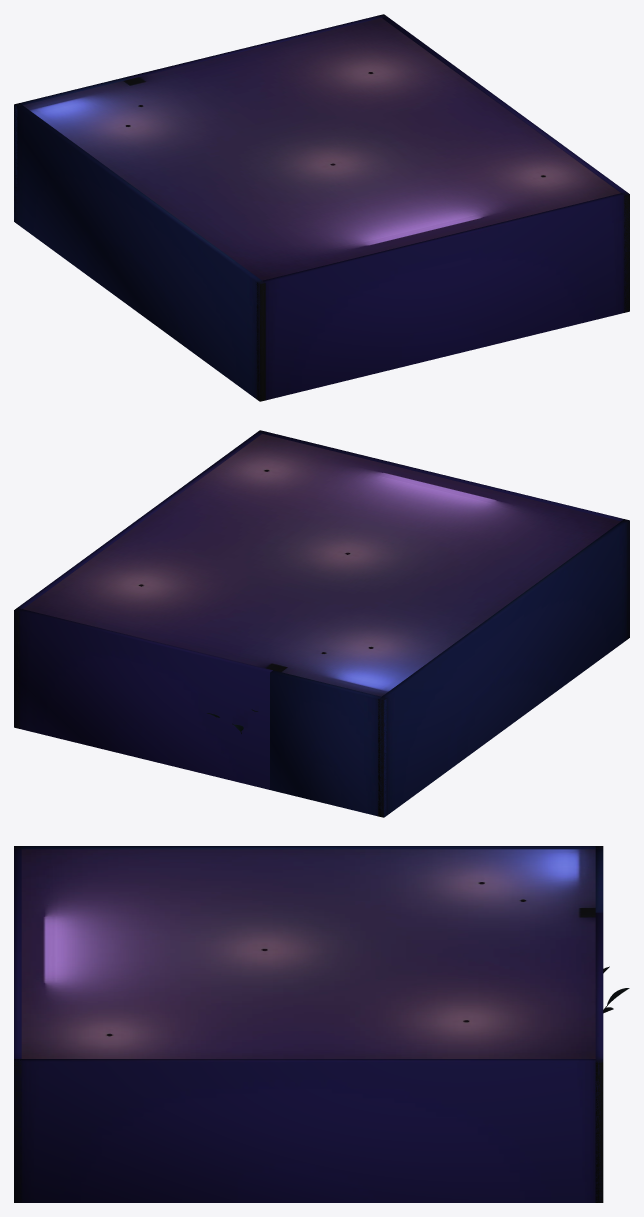
The model's file is game-room.glb.
3 renders of one model, top to bottom at view 1: azimuth 30°, elevation 25°; view 2: azimuth 150°, elevation 25°; view 3: azimuth 270°, elevation 25°, orthographic. The views are drawn at different scales.
Parts seen in each view (by area): view 1: BAKED_shell; view 2: BAKED_shell; view 3: BAKED_shell.
Part boxes in pixels (x1,y1,x2,y2): BAKED_shell: (14,14,629,401); BAKED_shell: (14,430,629,817); BAKED_shell: (14,846,603,1202).
Size of the model in its own units: 9.9 by 3.01 by 11.91.
9 materials, 6 textured.
